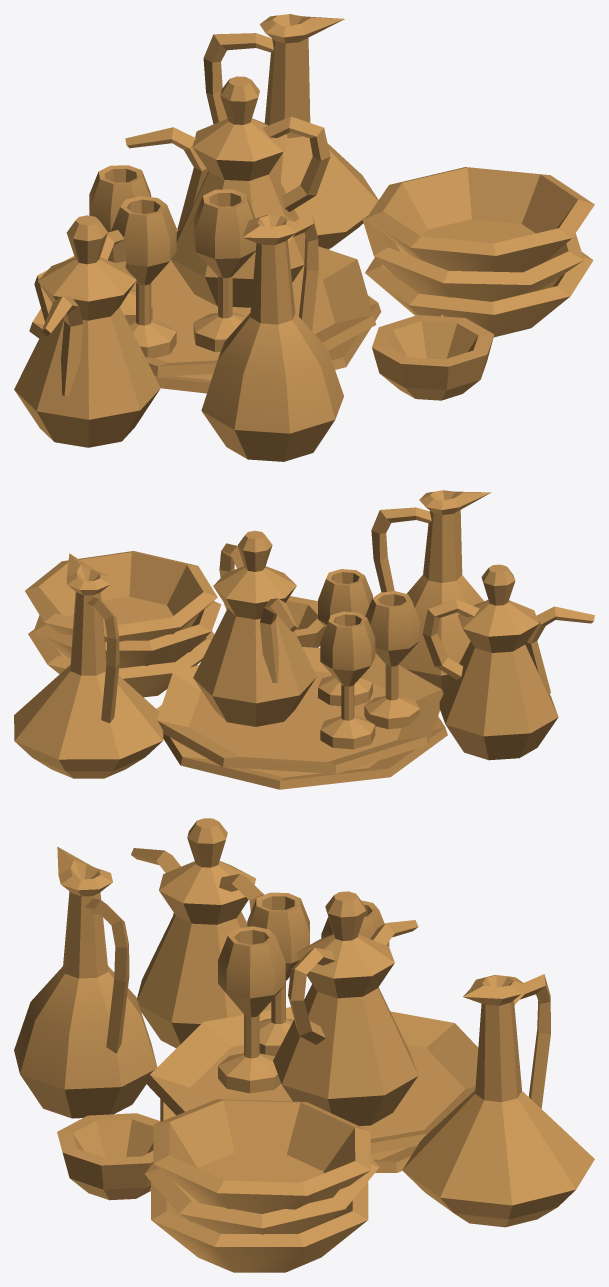
The model's file is SM_Prop_Gold_Plates_Preset_01.fbx.
3 renders of one model, top to bottom at view 1: azimuth 30°, elevation 25°; view 2: azimuth 150°, elevation 25°; view 3: azimuth 270°, elevation 25°, orthographic. The views are drawn at different scales.
Visible parts, largest first — view 1: SM_Prop_Gold_Plates_Preset_01; view 2: SM_Prop_Gold_Plates_Preset_01; view 3: SM_Prop_Gold_Plates_Preset_01.
Boxes of the visible parts, bbox=[...] form: SM_Prop_Gold_Plates_Preset_01: bbox=[14, 14, 594, 461]; SM_Prop_Gold_Plates_Preset_01: bbox=[14, 490, 594, 789]; SM_Prop_Gold_Plates_Preset_01: bbox=[14, 818, 594, 1272].
Bounding box in the file's own units: 125 × 50.11 × 105.
